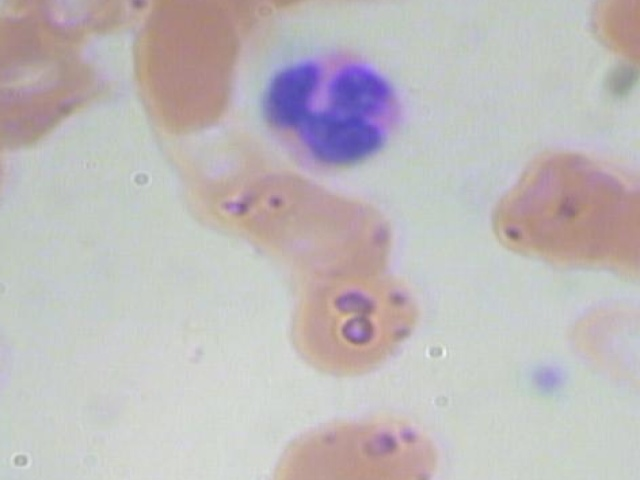Platelets: (515, 360, 570, 397)
RBC: (126, 0, 242, 140), (481, 152, 603, 271), (529, 151, 640, 270), (309, 264, 433, 369), (323, 393, 462, 480), (278, 192, 401, 285), (563, 285, 640, 401), (256, 415, 380, 480), (594, 165, 640, 279), (580, 0, 640, 75), (0, 293, 15, 411)
WBC: (240, 38, 419, 179)
